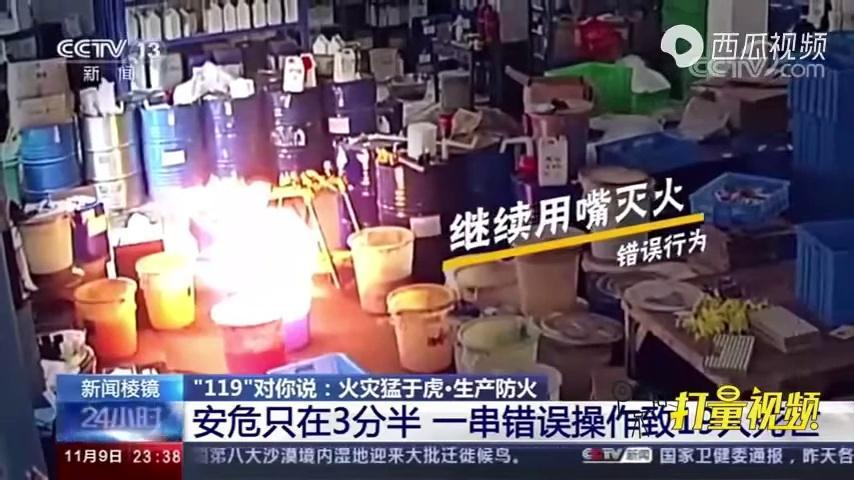fire: (94, 125, 391, 369)
